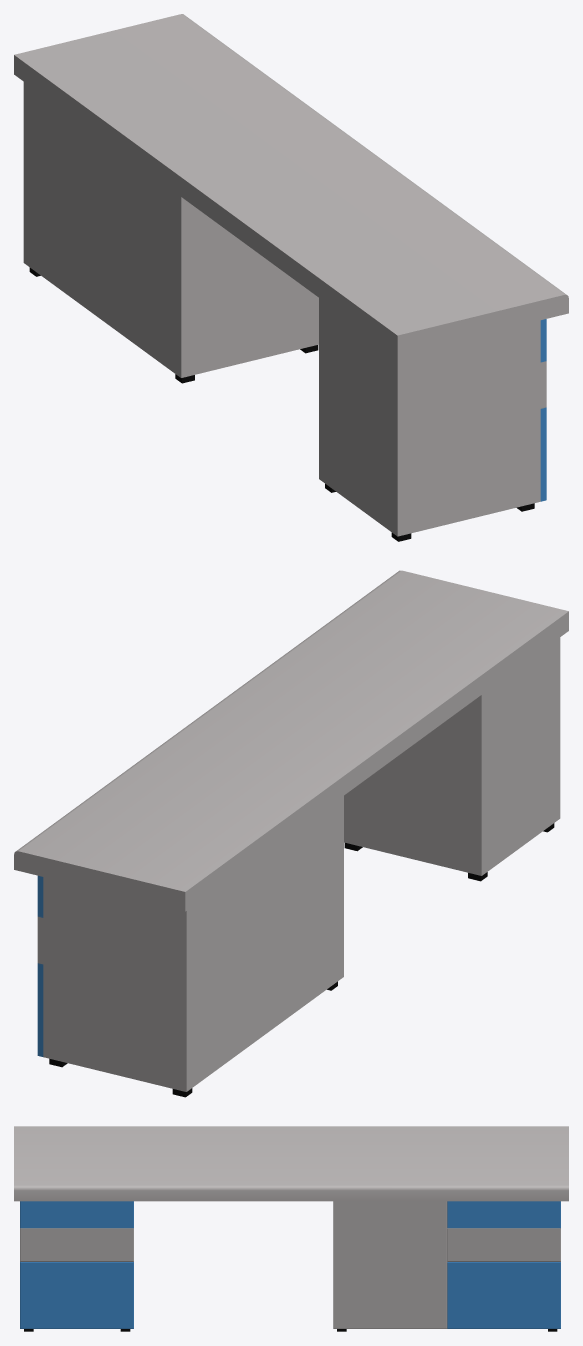
The model's file is LabDeskC.fbx.
The picture shows the model from 3 angles, top to bottom: view 1: azimuth 30°, elevation 25°; view 2: azimuth 150°, elevation 25°; view 3: azimuth 270°, elevation 25°; orthographic projection. The views are drawn at different scales.
Visible parts, largest first — view 1: LabDeskC; view 2: LabDeskC; view 3: LabDeskC.
Boxes of the visible parts, bbox=[...] form: LabDeskC: bbox=[14, 14, 568, 541]; LabDeskC: bbox=[14, 570, 568, 1097]; LabDeskC: bbox=[14, 1126, 568, 1331].
Bounding box in the file's own units: 76.04 × 90.36 × 295.
